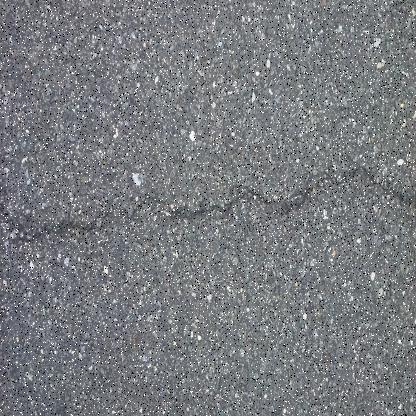Cracks: (0, 152, 416, 251)
